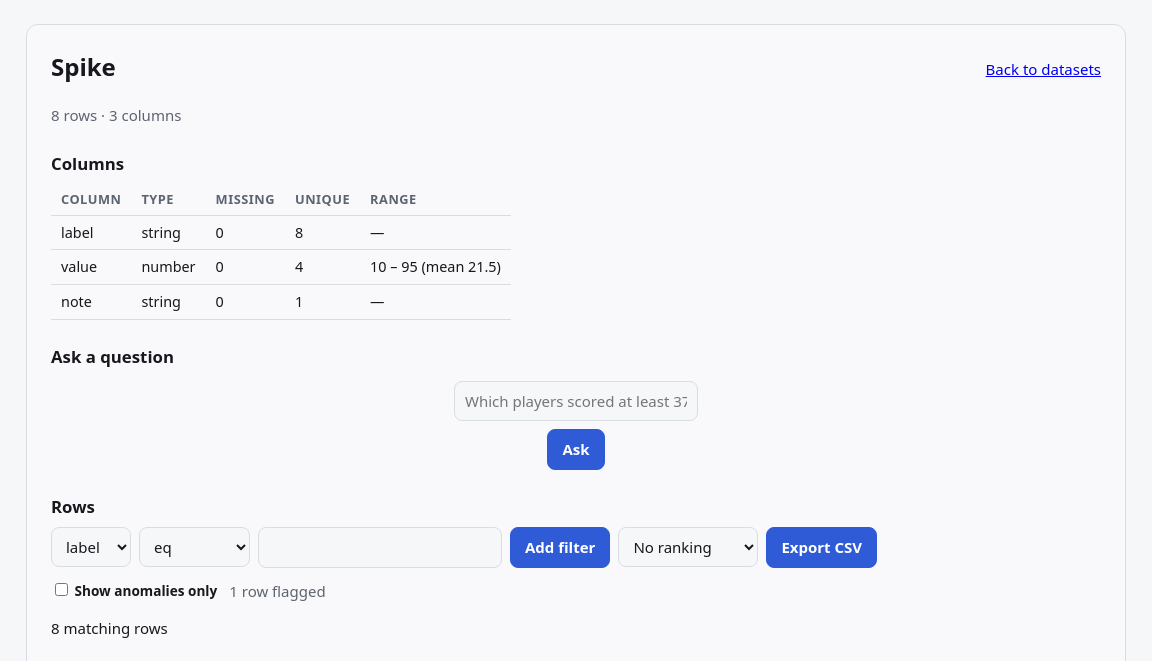
it: ask box › an answer with no filters says so instead of showing nothing
Check: the text "8 matching rows" is shown, box [51,618,168,638]
In the field with test id "ask-input": (576, 401) [454,381,698,421], type "show me everything"
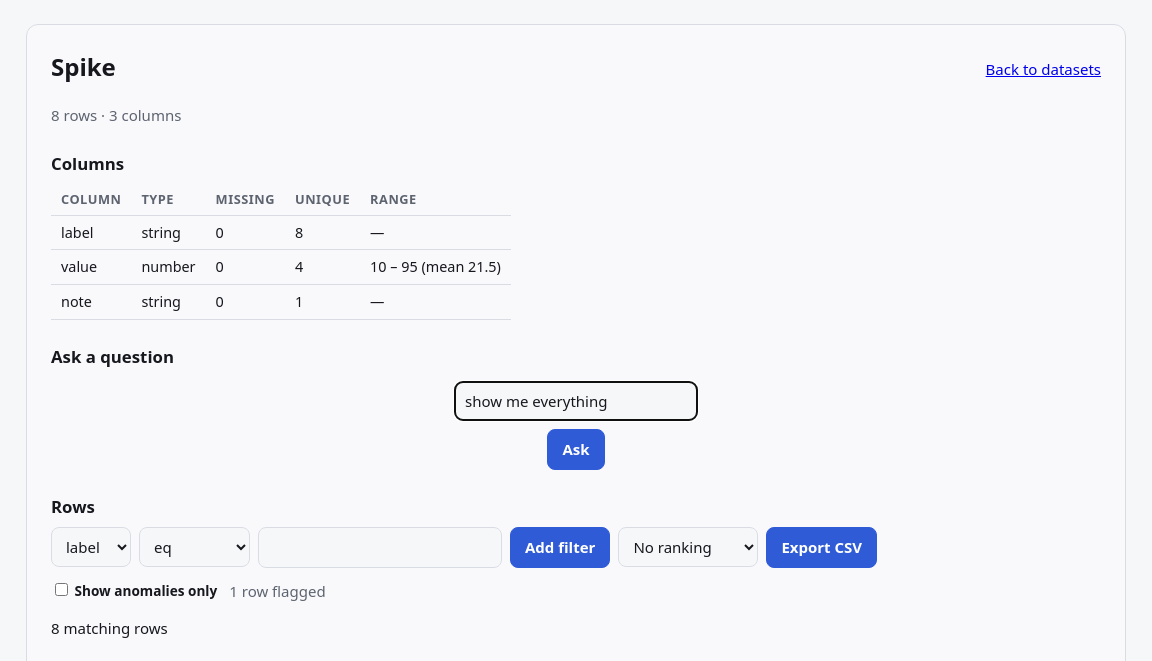
Click the button with test id "ask-submit": (576, 450) [547,429,604,470]
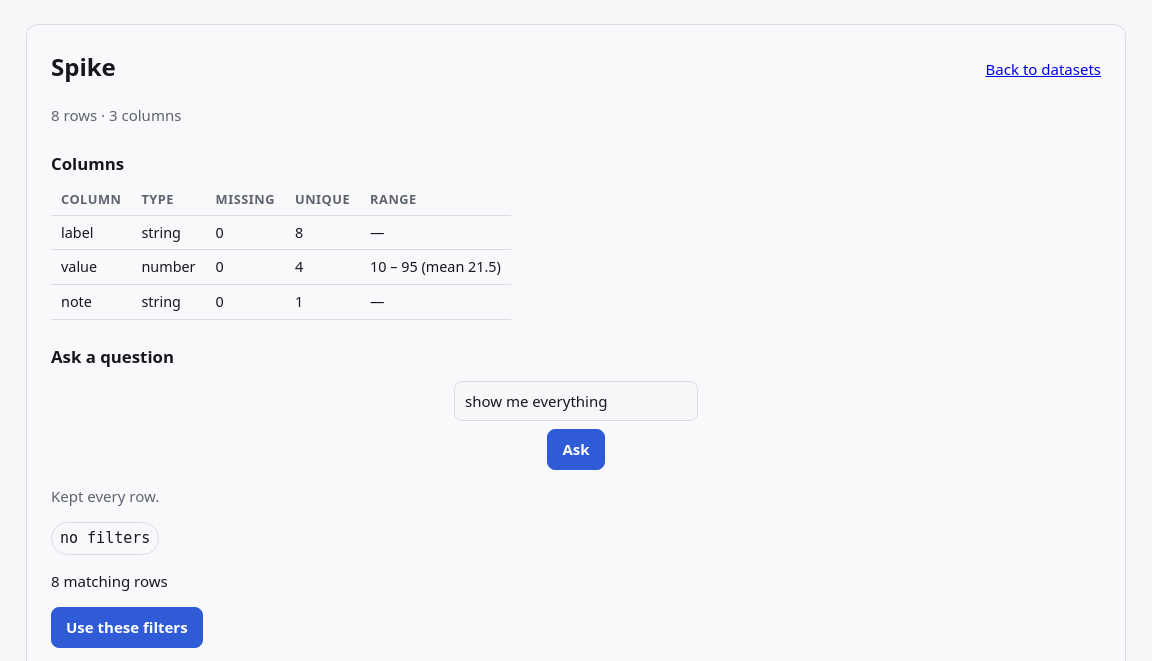
Check: the list item with test id "ask-filter-chip" reads "no filters", box [60,529,150,547]
Check: the text with test id "ask-row-count" reads "8 matching rows", box [51,571,168,591]
